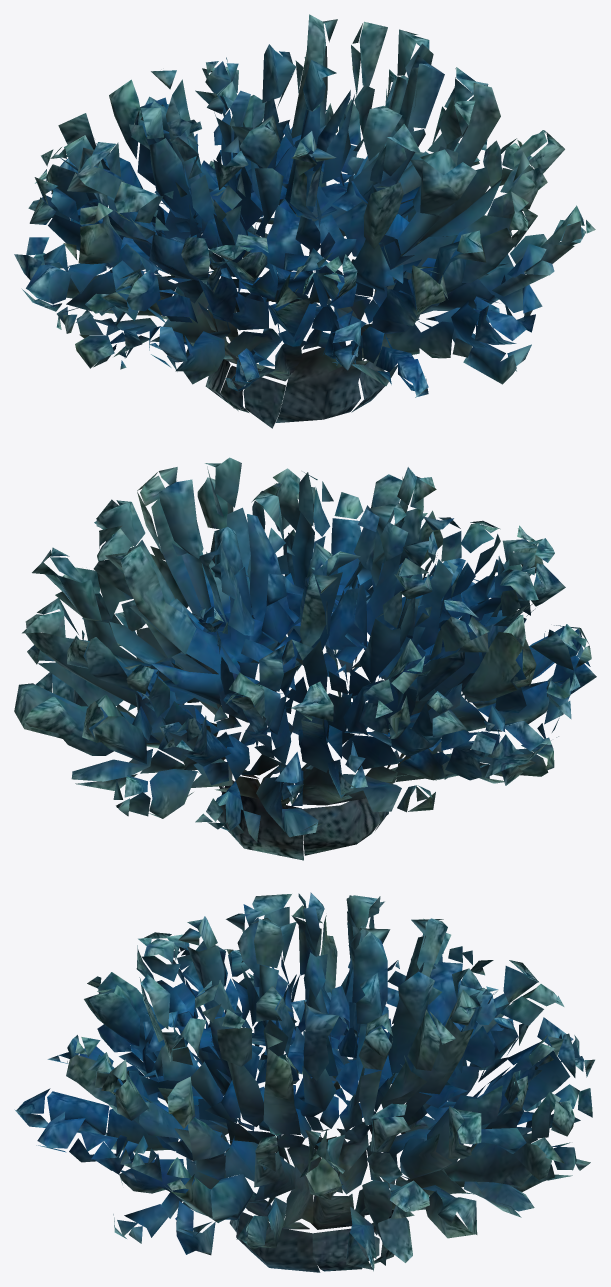
The model's file is coral_branch_b.glb.
3 views of the same model, one above another, from view 1: azimuth 30°, elevation 25°; view 2: azimuth 150°, elevation 25°; view 3: azimuth 270°, elevation 25° (orthographic). The views are drawn at different scales.
Visible parts, largest first — view 1: tripo_node_88eecc38-f34a-42e4-8279-4554074913f1; view 2: tripo_node_88eecc38-f34a-42e4-8279-4554074913f1; view 3: tripo_node_88eecc38-f34a-42e4-8279-4554074913f1.
Part boxes in pixels (left/top/right/bottom): tripo_node_88eecc38-f34a-42e4-8279-4554074913f1: left=14, top=14, right=595, bottom=428; tripo_node_88eecc38-f34a-42e4-8279-4554074913f1: left=14, top=457, right=596, bottom=860; tripo_node_88eecc38-f34a-42e4-8279-4554074913f1: left=14, top=892, right=594, bottom=1272.
Size of the model in its own units: 0.9623 by 0.6038 by 0.9881.
1 material, 1 textured.
